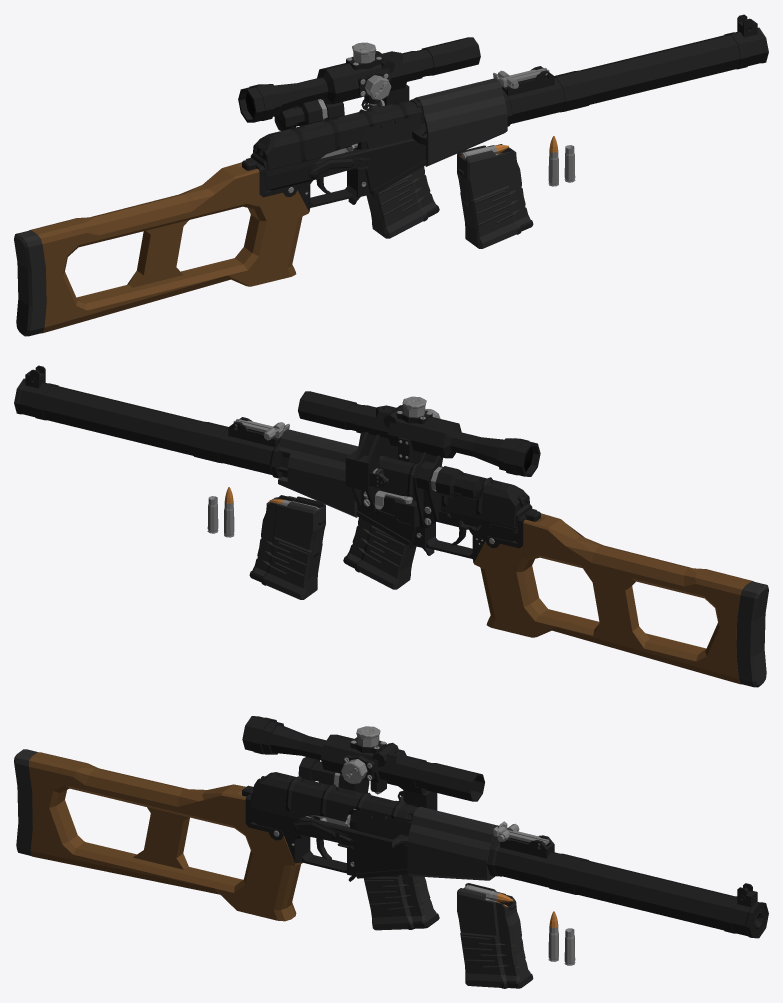
Rendered from low-poly_vss_vintorez.glb.
3 renders of one model, top to bottom at view 1: azimuth 30°, elevation 25°; view 2: azimuth 150°, elevation 25°; view 3: azimuth 330°, elevation 25°, orthographic.
Parts seen in each view (by area): view 1: vss stock_14, vss silencer_8, pso1m21_15, vss 10rnd mag_3, vss handguard_11, vss receiver_4, vss dust cover_13, vss 10rnd mag empty_2, vss bolt_10, vss safety_6; view 2: vss stock_14, pso1m21_15, vss silencer_8, vss 10rnd mag_3, vss handguard_11, vss receiver_4, vss dust cover_13, vss 10rnd mag empty_2; view 3: vss stock_14, vss silencer_8, pso1m21_15, vss 10rnd mag_3, vss handguard_11, vss dust cover_13, vss receiver_4, vss 10rnd mag empty_2, vss bolt_10, vss safety_6.
Part boxes in pixels (x1=…): vss stock_14: x1=14, y1=157, x2=309, y2=336; vss silencer_8: x1=493, y1=14, x2=768, y2=126; pso1m21_15: x1=238, y1=37, x2=480, y2=130; vss 10rnd mag_3: x1=457, y1=144, x2=533, y2=248; vss handguard_11: x1=414, y1=78, x2=507, y2=166; vss receiver_4: x1=250, y1=98, x2=426, y2=210; vss dust cover_13: x1=253, y1=100, x2=422, y2=176; vss 10rnd mag empty_2: x1=366, y1=166, x2=439, y2=238; vss bolt_10: x1=345, y1=115, x2=427, y2=152; vss safety_6: x1=308, y1=156, x2=370, y2=180; vss stock_14: x1=473, y1=508, x2=768, y2=687; pso1m21_15: x1=298, y1=391, x2=540, y2=527; vss silencer_8: x1=14, y1=365, x2=289, y2=478; vss 10rnd mag_3: x1=249, y1=495, x2=325, y2=599; vss handguard_11: x1=278, y1=429, x2=358, y2=517; vss receiver_4: x1=277, y1=452, x2=532, y2=561; vss dust cover_13: x1=379, y1=455, x2=529, y2=527; vss 10rnd mag empty_2: x1=343, y1=517, x2=416, y2=589; vss stock_14: x1=14, y1=749, x2=302, y2=921; vss silencer_8: x1=487, y1=821, x2=768, y2=938; pso1m21_15: x1=242, y1=716, x2=484, y2=810; vss 10rnd mag_3: x1=457, y1=883, x2=533, y2=988; vss handguard_11: x1=407, y1=806, x2=498, y2=880; vss dust cover_13: x1=252, y1=772, x2=415, y2=821; vss receiver_4: x1=250, y1=776, x2=494, y2=878; vss 10rnd mag empty_2: x1=363, y1=874, x2=439, y2=930; vss bolt_10: x1=345, y1=809, x2=411, y2=849; vss safety_6: x1=291, y1=815, x2=353, y2=847.
Size of the model in its own units: 8.93 by 2.57 by 0.797.
